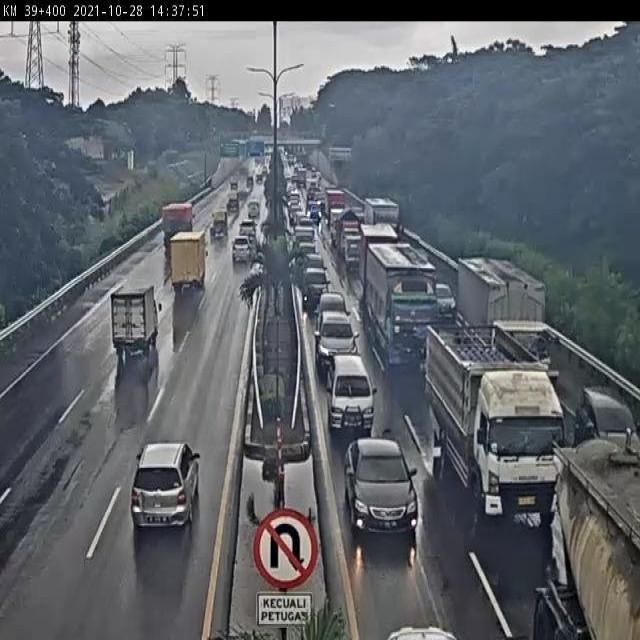big truck: (417, 330, 578, 554), (513, 414, 640, 640), (468, 265, 576, 396), (355, 239, 446, 372), (154, 195, 197, 252)
car: (116, 427, 214, 549), (342, 436, 432, 549), (572, 371, 640, 466), (324, 352, 374, 437), (318, 309, 358, 375), (434, 273, 465, 332), (299, 267, 331, 312), (316, 288, 351, 320), (230, 232, 256, 267), (236, 220, 257, 243)
small truck: (102, 286, 172, 370), (165, 228, 213, 309), (207, 205, 234, 240)
